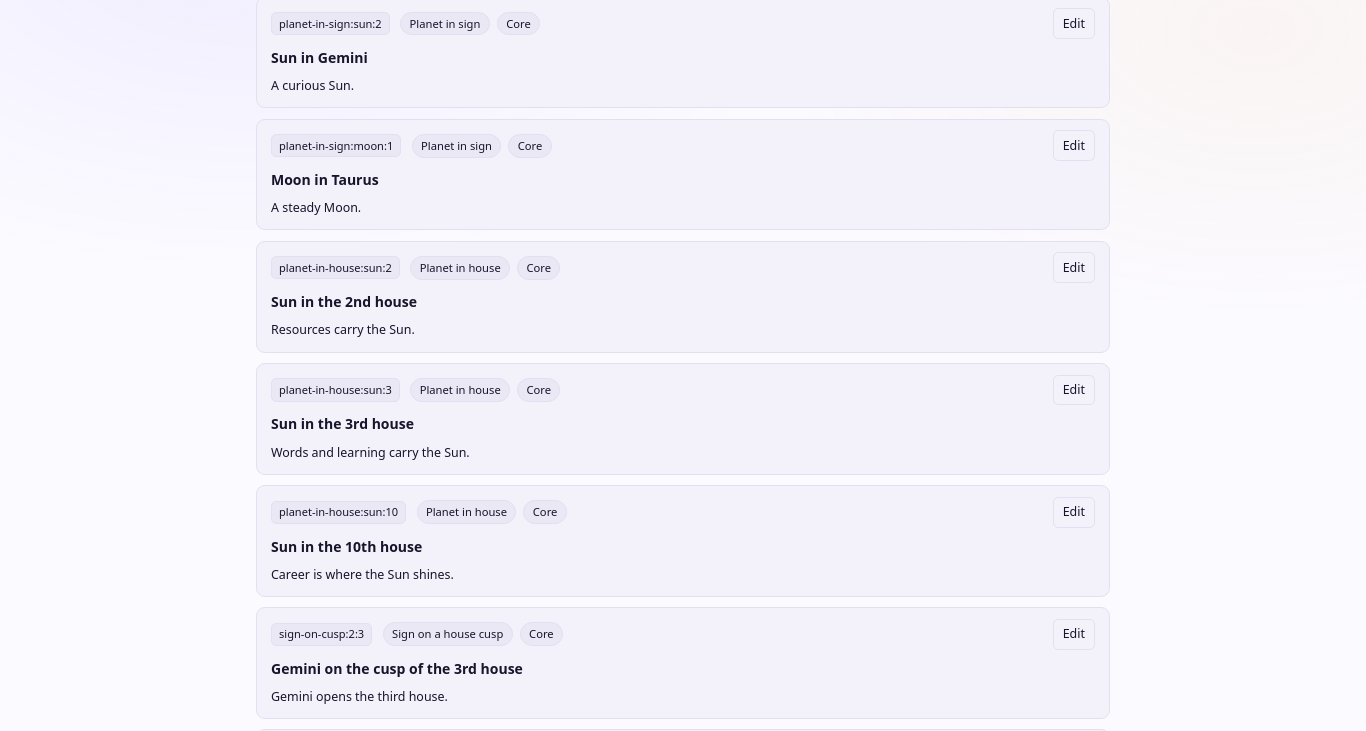
CorpusOverridesPanel shows what an entry means (#428) › names the entry in the editor and in the reset confirmation, with its key
(page scrolled)
Click the button "Edit" in the row of "planet-in-house:sun:3": (1074, 390) [1052,374,1095,405]
(page scrolled)
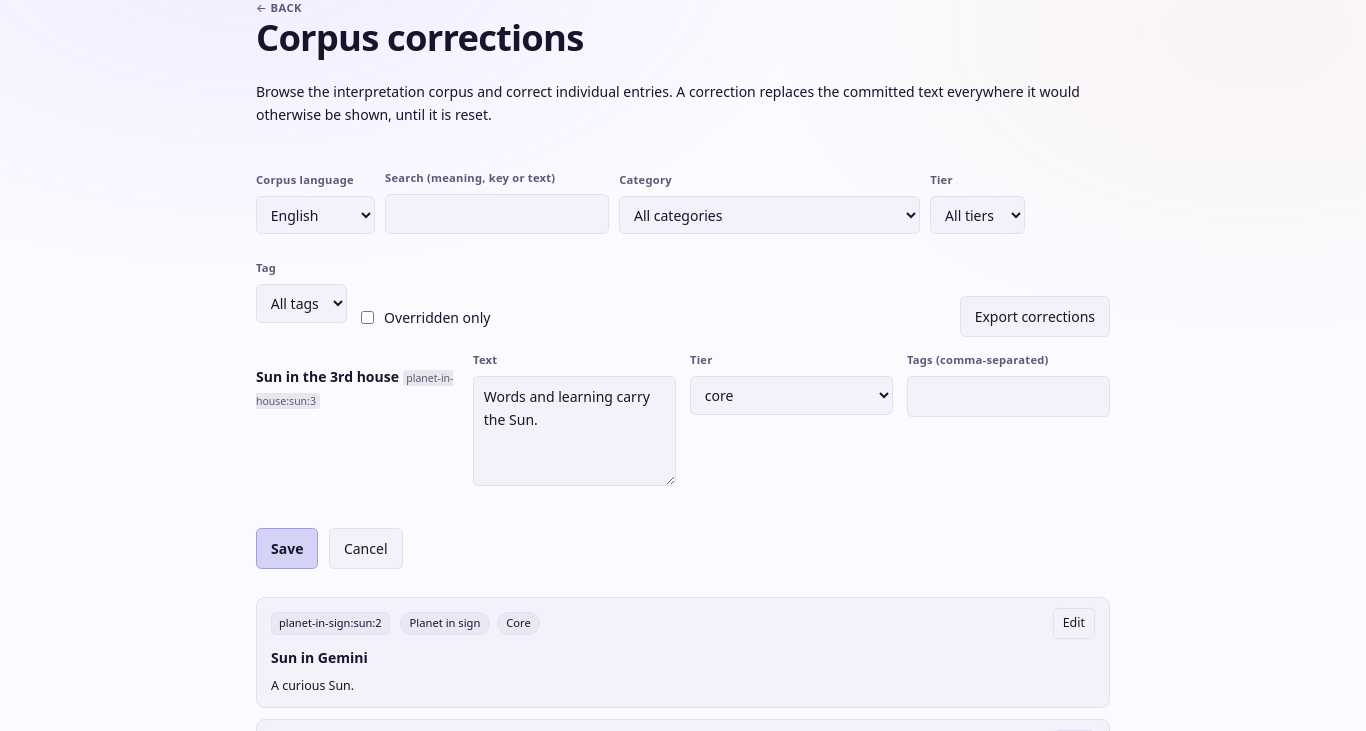
Expected: the text "Sun in the 3rd house" is shown, [256,367,399,386]
Expected: the text with class "entry-key" reads "planet-in-house:sun:3", [256,371,454,408]
